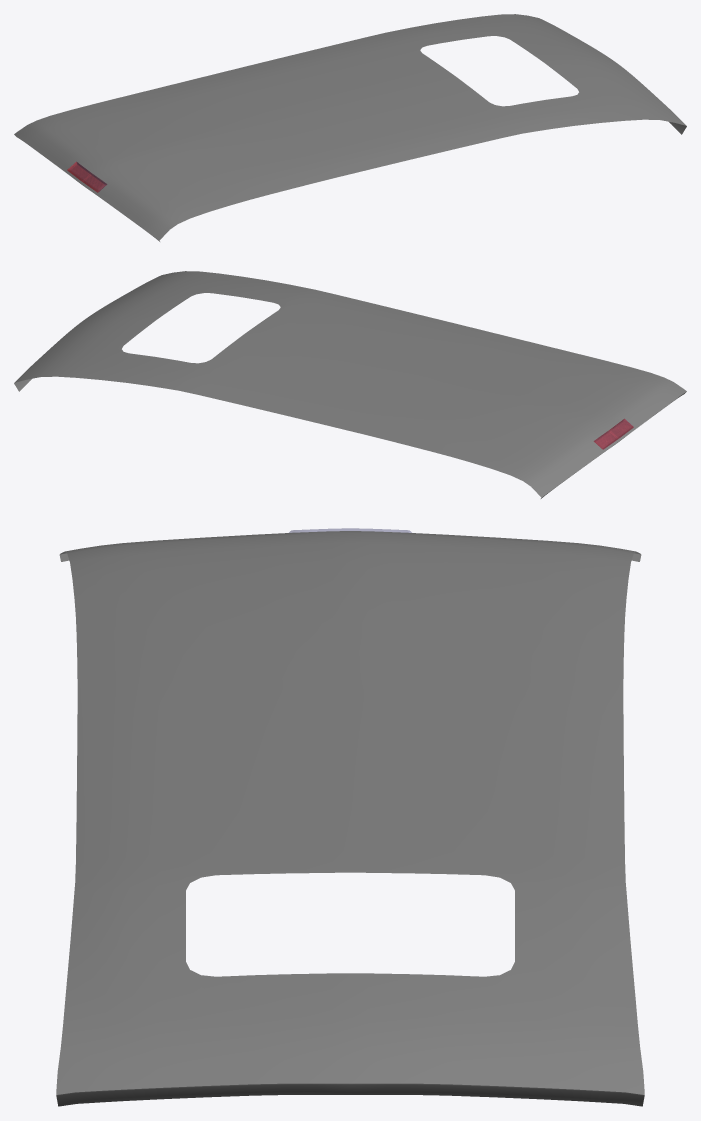
The picture shows the model from 3 angles, top to bottom: view 1: azimuth 30°, elevation 25°; view 2: azimuth 150°, elevation 25°; view 3: azimuth 270°, elevation 25°; orthographic projection. The views are drawn at different scales.
Visible parts, largest first — view 1: H713_341B_C_H713_341B_C_3_DaS, H713_341B_C_1_N_H713_341B_C, H713_341B_C_H713_341B_C_2_DTaSI; view 2: H713_341B_C_H713_341B_C_3_DaS, H713_341B_C_1_N_H713_341B_C, H713_341B_C_H713_341B_C_2_DTaSI; view 3: H713_341B_C_H713_341B_C_3_DaS, H713_341B_C_H713_341B_C_3_DaS_E.
Part boxes in pixels (x1=…): H713_341B_C_H713_341B_C_3_DaS: x1=14, y1=14, x2=686, y2=240; H713_341B_C_1_N_H713_341B_C: x1=67, y1=162, x2=106, y2=192; H713_341B_C_H713_341B_C_2_DTaSI: x1=67, y1=162, x2=106, y2=192; H713_341B_C_H713_341B_C_3_DaS: x1=14, y1=271, x2=686, y2=497; H713_341B_C_1_N_H713_341B_C: x1=594, y1=419, x2=633, y2=449; H713_341B_C_H713_341B_C_2_DTaSI: x1=594, y1=419, x2=633, y2=449; H713_341B_C_H713_341B_C_3_DaS: x1=56, y1=531, x2=644, y2=1094; H713_341B_C_H713_341B_C_3_DaS_E: x1=56, y1=553, x2=644, y2=1106.
Bounding box in the file's own units: 291 × 22.26 × 138.
